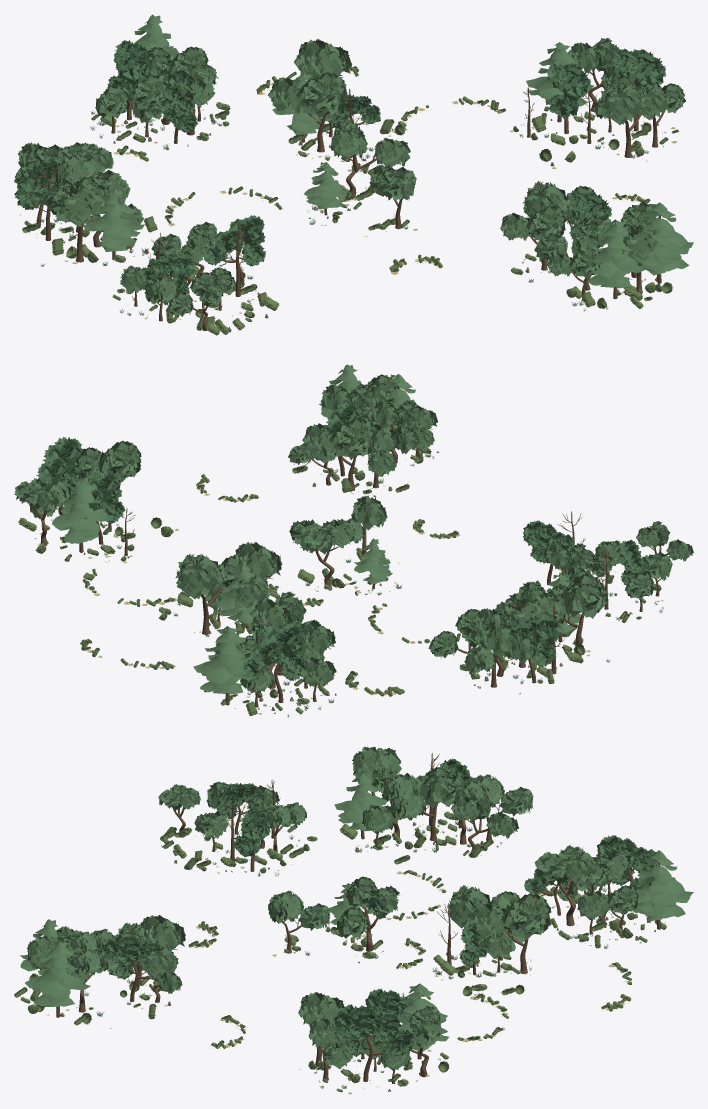
Rendered from atlas-v82-groot-landscape.glb.
3 renders of one model, top to bottom at view 1: azimuth 30°, elevation 25°; view 2: azimuth 150°, elevation 25°; view 3: azimuth 270°, elevation 25°, orthographic. The views are drawn at different scales.
Parts seen in each view (by area): view 1: v82-groot-tree-053, v82-groot-tree-025, v82-groot-tree-057, v82-groot-tree-049, v82-groot-tree-009, v82-groot-tree-041, v82-groot-tree-010, v82-groot-tree-017, v82-groot-tree-031, v82-groot-tree-044, v82-groot-tree-036, v82-groot-tree-035 (+30 smaller); view 2: v82-groot-tree-020, v82-groot-tree-054, v82-groot-tree-028, v82-groot-tree-010, v82-groot-tree-048, v82-groot-tree-034, v82-groot-tree-025, v82-groot-tree-053, v82-groot-tree-057, v82-groot-tree-032, v82-groot-tree-019, v82-groot-tree-042 (+27 smaller); view 3: v82-groot-tree-032, v82-groot-tree-054, v82-groot-tree-028, v82-groot-tree-057, v82-groot-tree-049, v82-groot-tree-013, v82-groot-tree-025, v82-groot-tree-048, v82-groot-tree-058, v82-groot-tree-046, v82-groot-tree-018, v82-groot-tree-031 (+27 smaller).
Boxes of the visible parts, x1=… form: v82-groot-tree-053: x1=268, y1=72, x2=346, y2=152; v82-groot-tree-025: x1=129, y1=46, x2=218, y2=135; v82-groot-tree-057: x1=331, y1=119, x2=410, y2=199; v82-groot-tree-049: x1=635, y1=202, x2=693, y2=283; v82-groot-tree-009: x1=203, y1=215, x2=265, y2=282; v82-groot-tree-041: x1=587, y1=219, x2=645, y2=299; v82-groot-tree-010: x1=46, y1=177, x2=100, y2=262; v82-groot-tree-017: x1=82, y1=188, x2=144, y2=259; v82-groot-tree-031: x1=600, y1=82, x2=666, y2=157; v82-groot-tree-044: x1=500, y1=205, x2=566, y2=270; v82-groot-tree-036: x1=547, y1=63, x2=590, y2=133; v82-groot-tree-035: x1=568, y1=38, x2=634, y2=111; v82-groot-tree-020: x1=240, y1=623, x2=306, y2=702; v82-groot-tree-054: x1=175, y1=553, x2=242, y2=634; v82-groot-tree-028: x1=193, y1=626, x2=257, y2=705; v82-groot-tree-010: x1=532, y1=574, x2=608, y2=644; v82-groot-tree-048: x1=302, y1=418, x2=375, y2=491; v82-groot-tree-034: x1=52, y1=477, x2=114, y2=552; v82-groot-tree-025: x1=251, y1=591, x2=335, y2=675; v82-groot-tree-053: x1=232, y1=542, x2=282, y2=614; v82-groot-tree-057: x1=289, y1=519, x2=355, y2=587; v82-groot-tree-032: x1=29, y1=437, x2=89, y2=515; v82-groot-tree-019: x1=464, y1=620, x2=517, y2=687; v82-groot-tree-042: x1=370, y1=400, x2=421, y2=463; v82-groot-tree-032: x1=334, y1=1004, x2=414, y2=1081; v82-groot-tree-054: x1=469, y1=893, x2=551, y2=973; v82-groot-tree-028: x1=633, y1=850, x2=693, y2=929; v82-groot-tree-057: x1=336, y1=876, x2=399, y2=951; v82-groot-tree-049: x1=25, y1=940, x2=90, y2=1017; v82-groot-tree-013: x1=390, y1=767, x2=456, y2=841; v82-groot-tree-025: x1=534, y1=845, x2=597, y2=926; v82-groot-tree-048: x1=136, y1=915, x2=185, y2=991; v82-groot-tree-058: x1=268, y1=890, x2=330, y2=953; v82-groot-tree-046: x1=104, y1=933, x2=172, y2=1001; v82-groot-tree-018: x1=451, y1=791, x2=518, y2=850; v82-groot-tree-031: x1=298, y1=992, x2=347, y2=1067.
Size of the model in its own units: 62.62 by 8.07 by 62.68.
